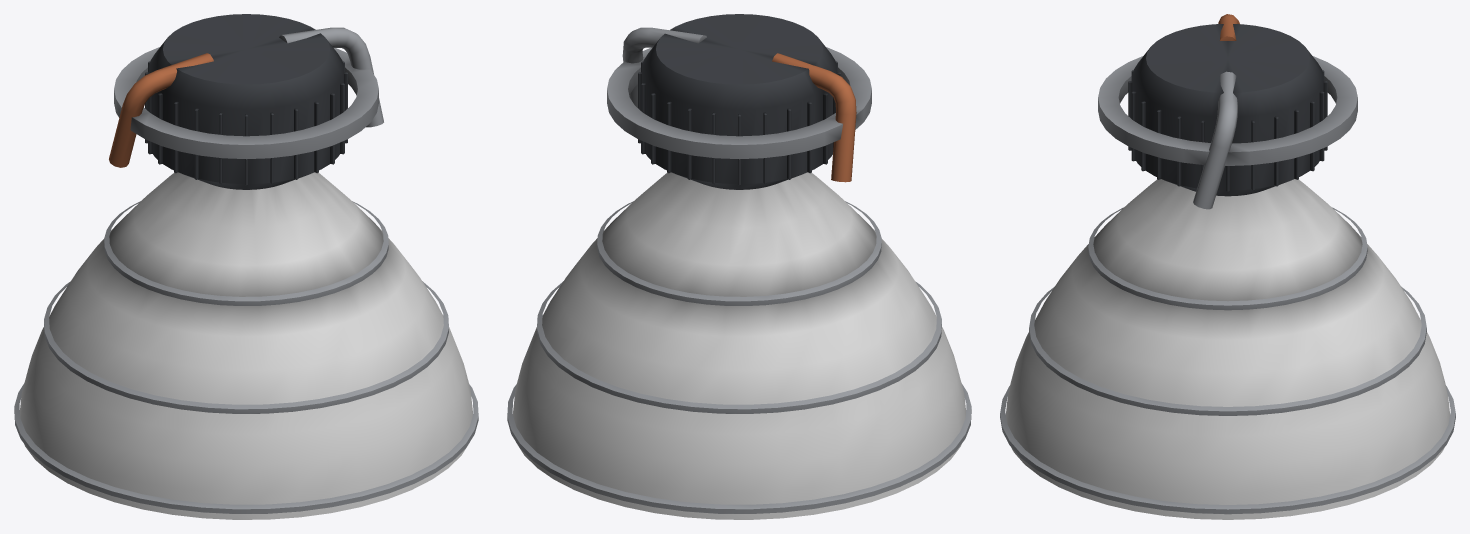
Rendered from parte_motor.glb.
3 renders of one model, left to right at view 1: azimuth 30°, elevation 25°; view 2: azimuth 150°, elevation 25°; view 3: azimuth 270°, elevation 25°, orthographic.
Parts seen in each view (by area): view 1: cuerpo; view 2: cuerpo; view 3: cuerpo.
Part boxes in pixels (box(x1,y1,x2,y2)): cuerpo: box(14, 14, 478, 519); cuerpo: box(507, 14, 971, 519); cuerpo: box(1000, 14, 1455, 519).
Size of the model in its own units: 1.8 by 1.62 by 1.8.
